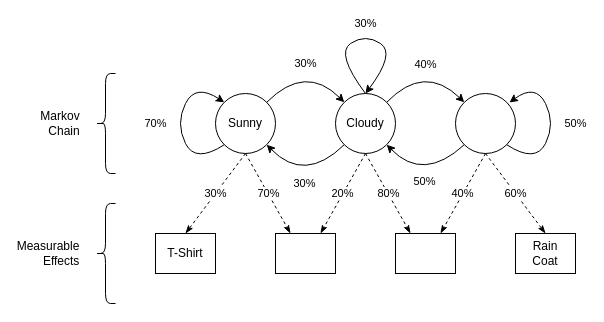
This 604x322 diagram has some shape labels left out. Each missing label, with the box of its shape:
Parka: (394, 232, 456, 274)
Rainy: (454, 92, 516, 154)
Sweater: (274, 232, 336, 274)
